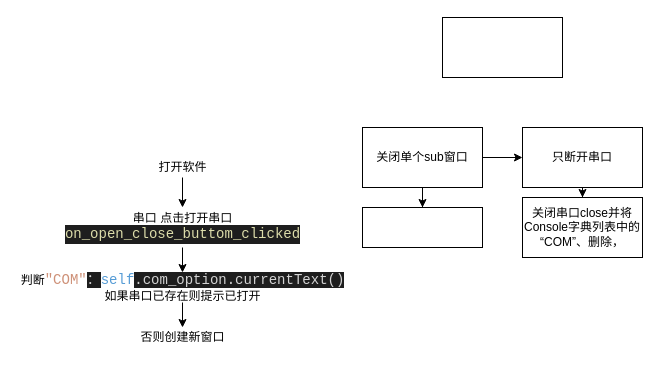
The diagram is 660 pixels wide and 365 high, and some of its shapes have lost their labels. The shapes that lost their labels are listed below. From the top down, each one's box as (x1, y1, x2, y2) in pixels, then its label:
(442, 16, 562, 78): 判断当前所处的Subwin是否有终端已打开
(362, 206, 482, 248): 则关闭串口或Telnet终端后删除Console字典列表
